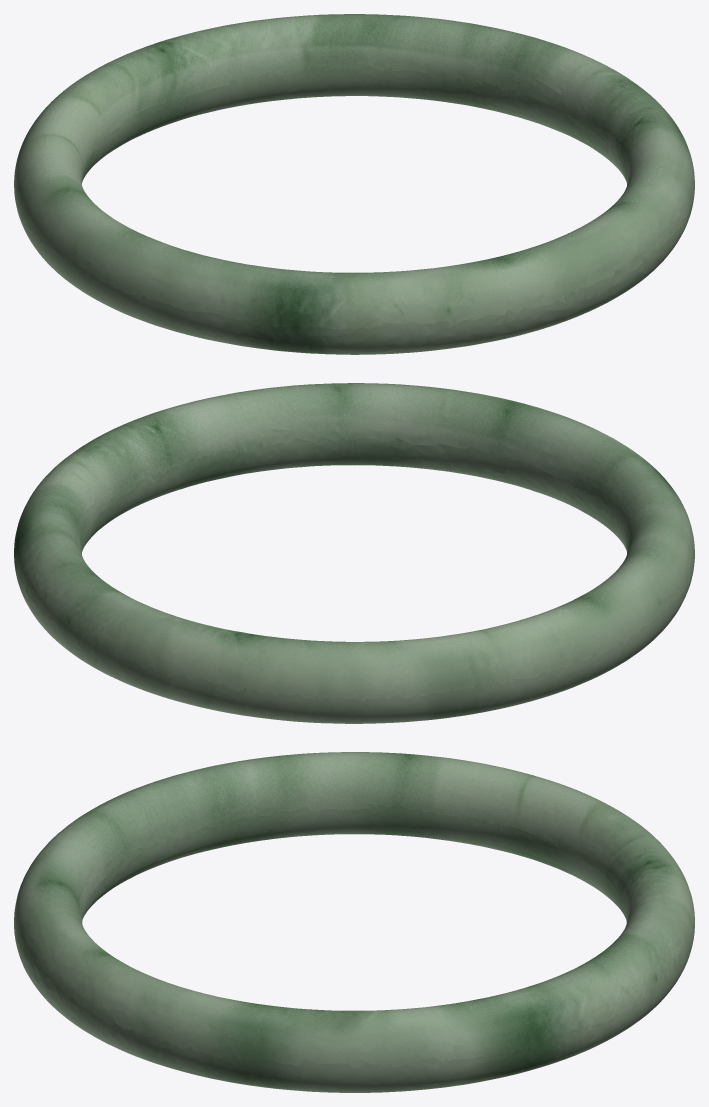
File: ring_jade.glb
3 renders of one model, top to bottom at view 1: azimuth 30°, elevation 25°; view 2: azimuth 150°, elevation 25°; view 3: azimuth 270°, elevation 25°, orthographic.
Size of the model in its own units: 1.89 by 0.2358 by 1.89.
1 material, 1 textured.
